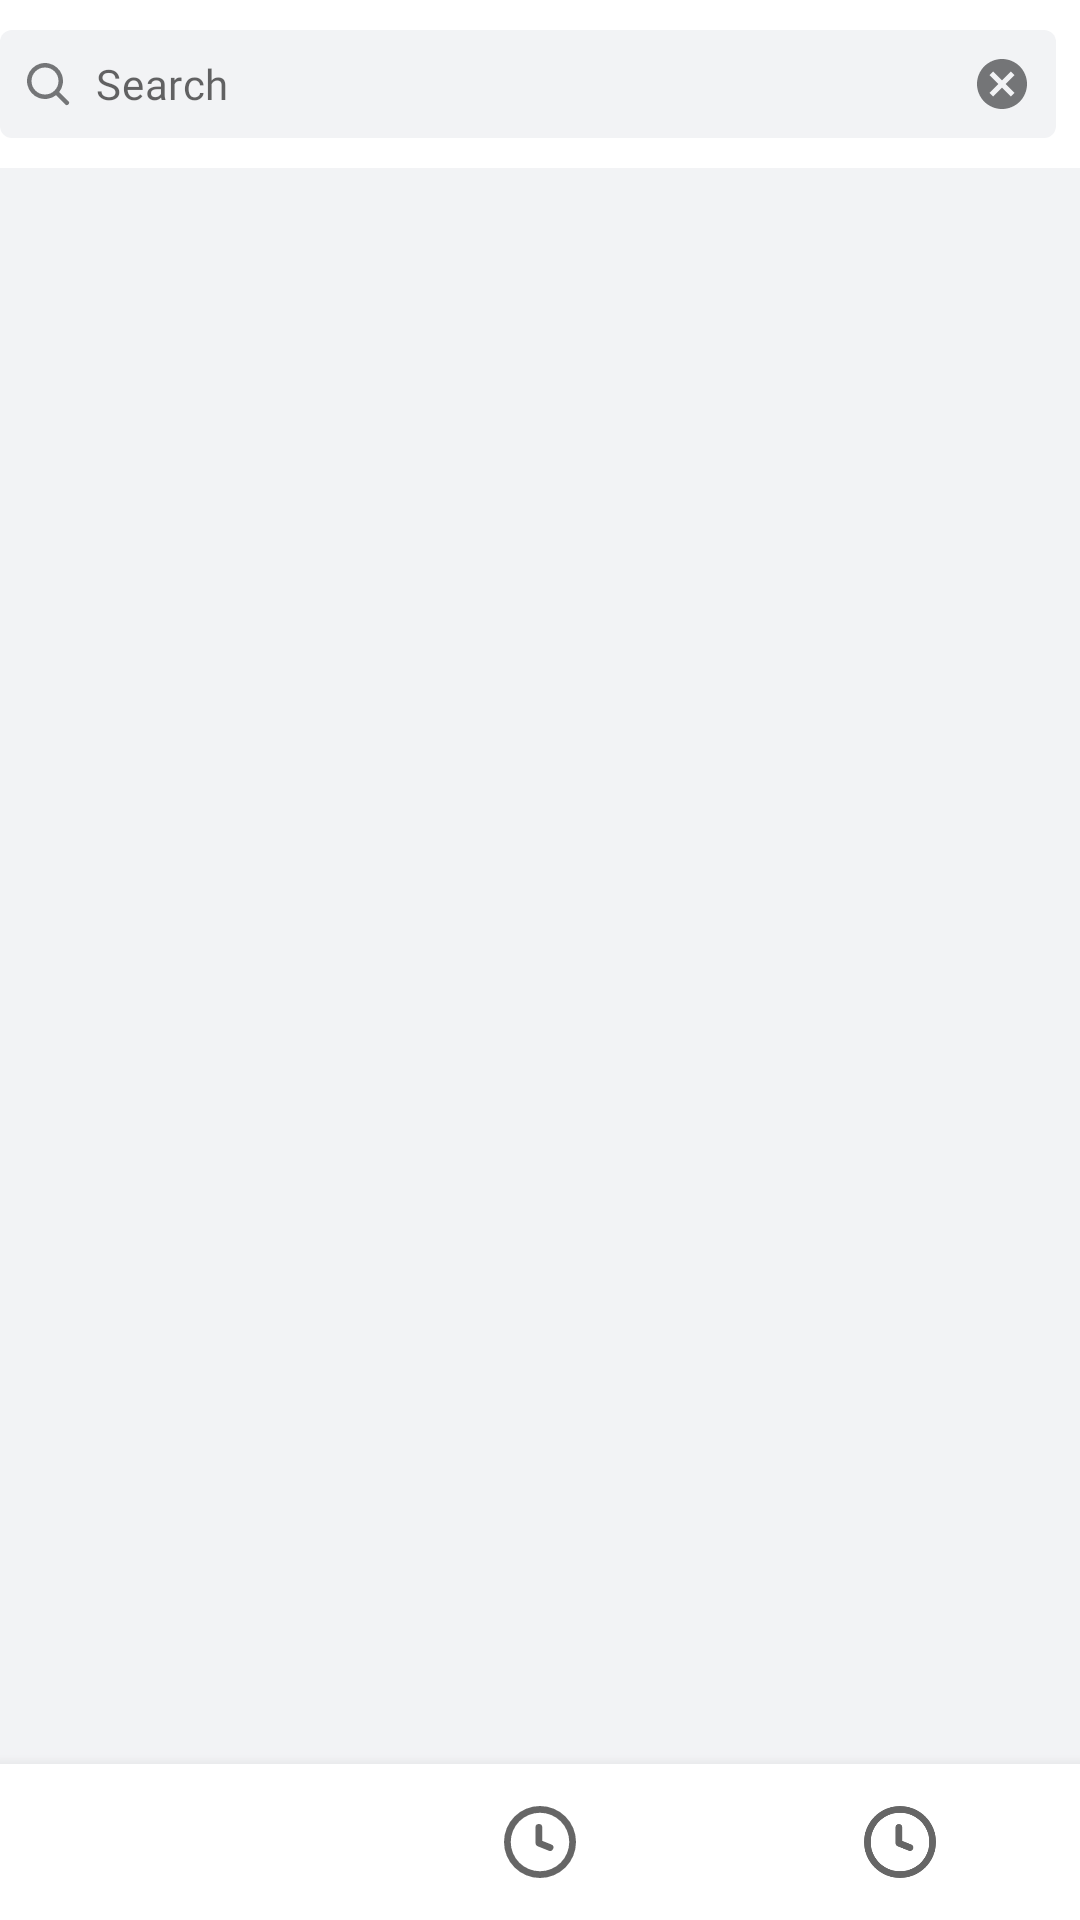

Screen size 1080x1920. Icon name, then its box in pixels as (x1, y1, x2, y2):
cancel: (977, 59, 1027, 109)
